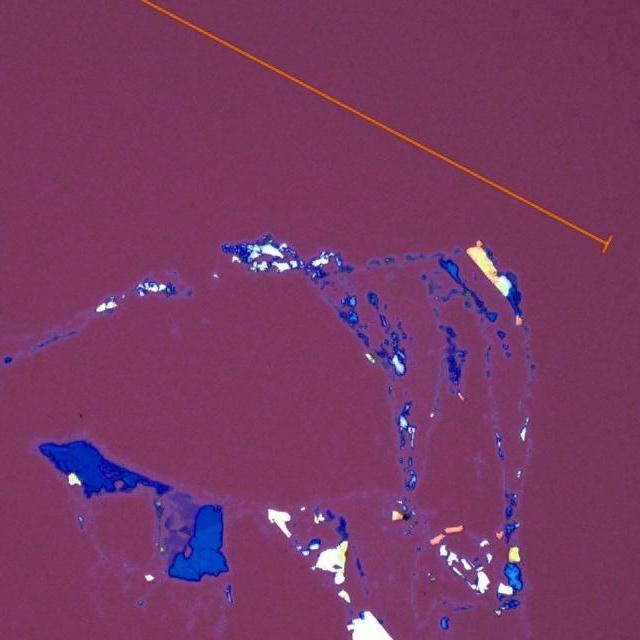monolayer-eWW4: (170, 491, 197, 522), (164, 532, 186, 564)
